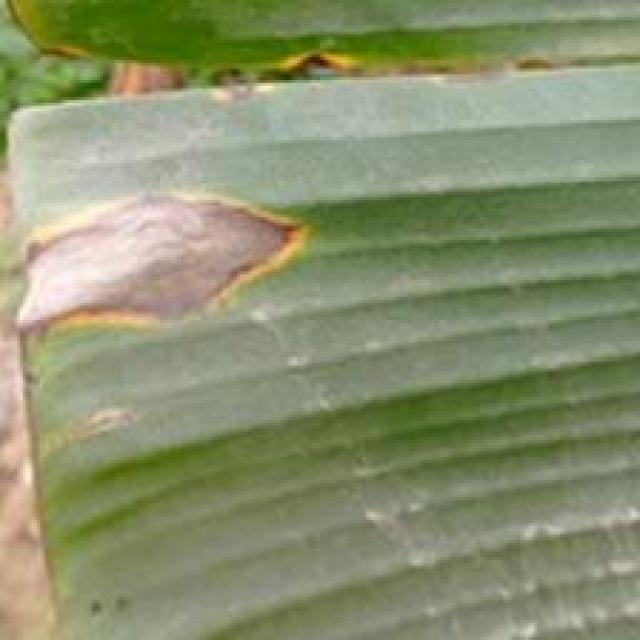Bacterial_spot: (0, 186, 340, 354), (18, 398, 157, 464), (270, 44, 363, 80), (201, 80, 288, 118), (25, 40, 106, 75), (502, 51, 570, 83)
